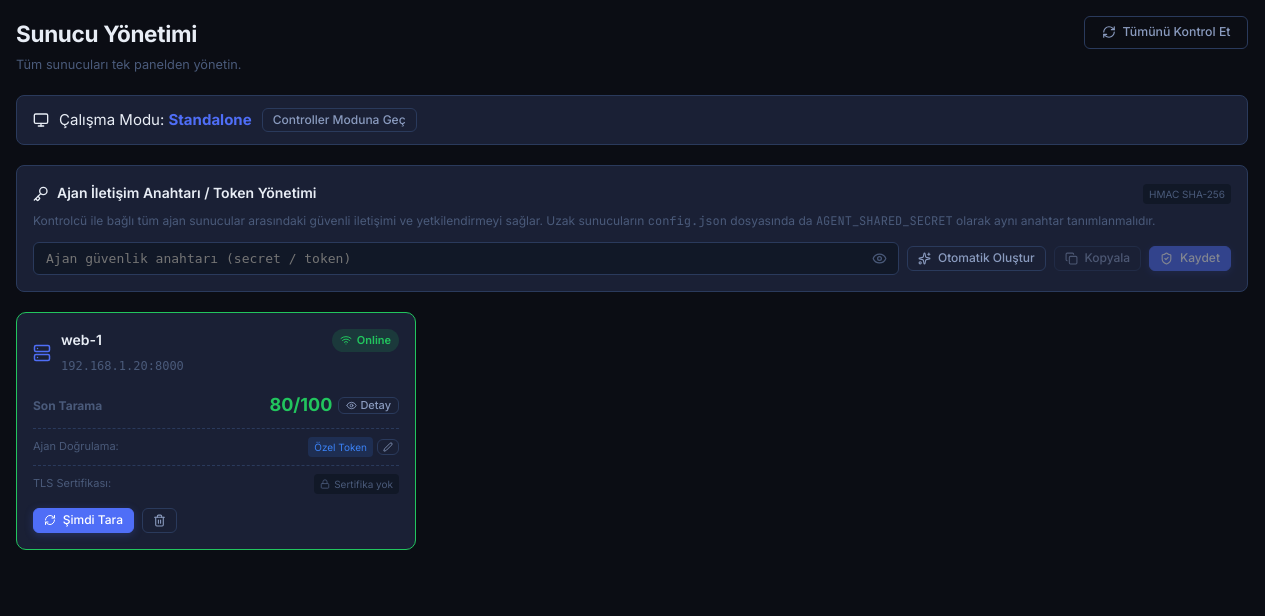
Test: ServerManagement sunucu token'ı düzenleme › Token'ı kaldır seçilince clear_token gönderilir
The width and height of the screenshot is (1265, 616).
Click the button titled "Sunucu token'ını düzenle" at [388, 447], box [377,439,399,455]
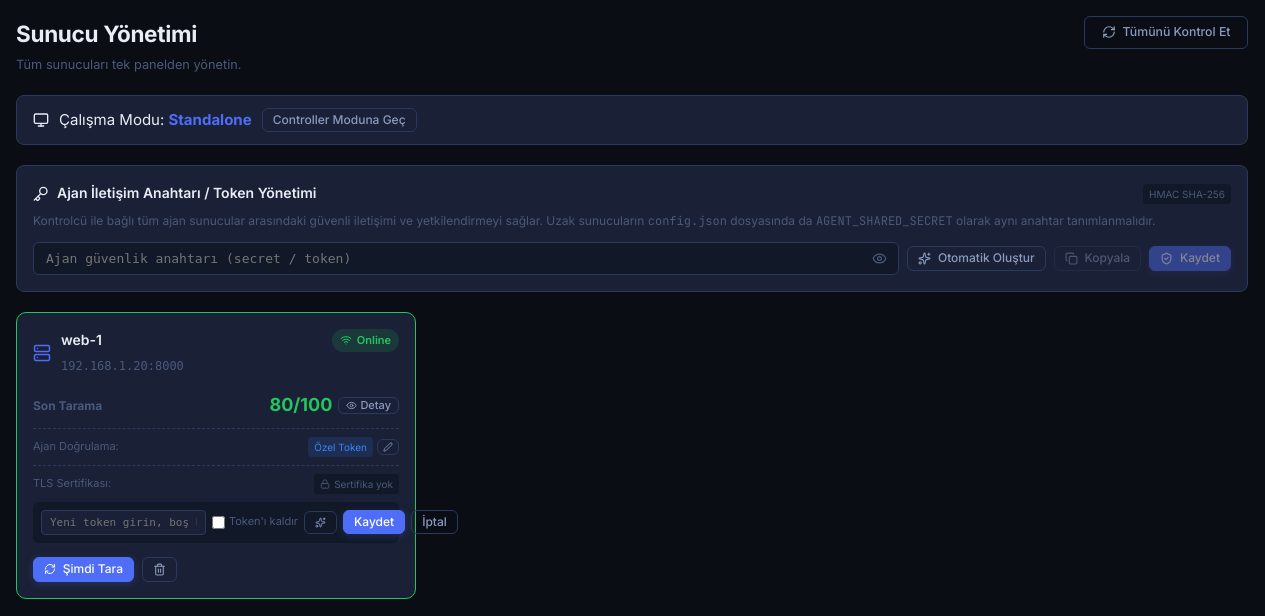
Click the checkbox labelled "Token'ı kaldır" at [218, 522], box [212,516,225,529]
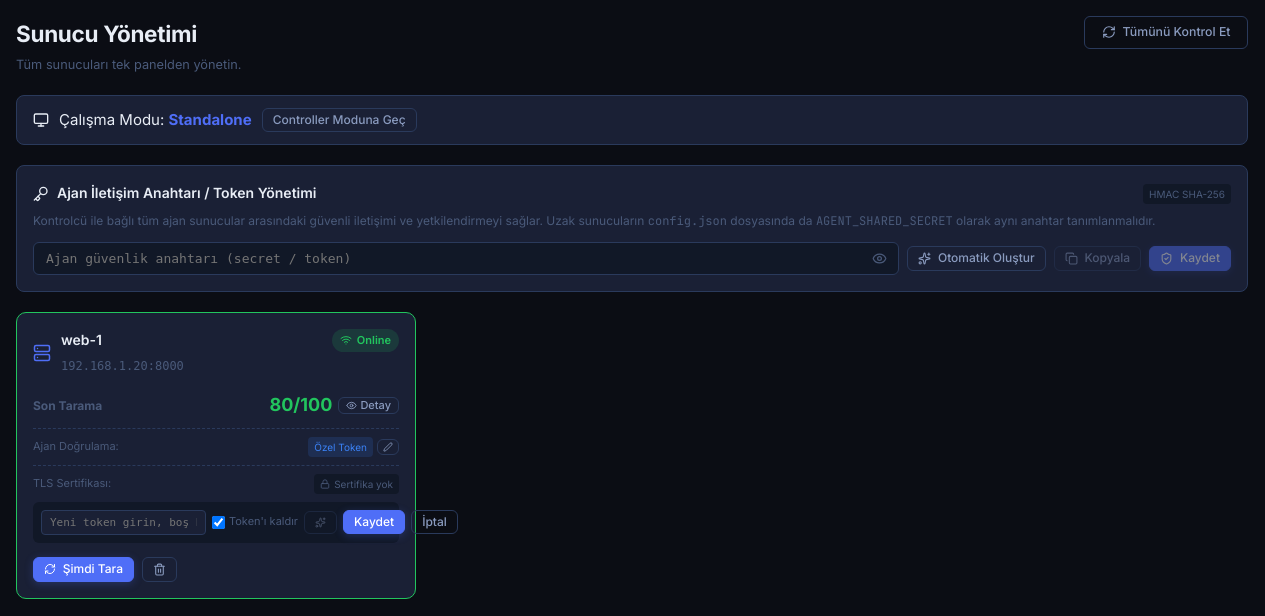
Expected: the field with placeholder "boş bırakılırsa değişmez" is disabled, [41,510,206,535]
Click the button titled "Token'ı kaydet" next to "Token'ı kaldır" at [374, 522], box [343,510,405,534]
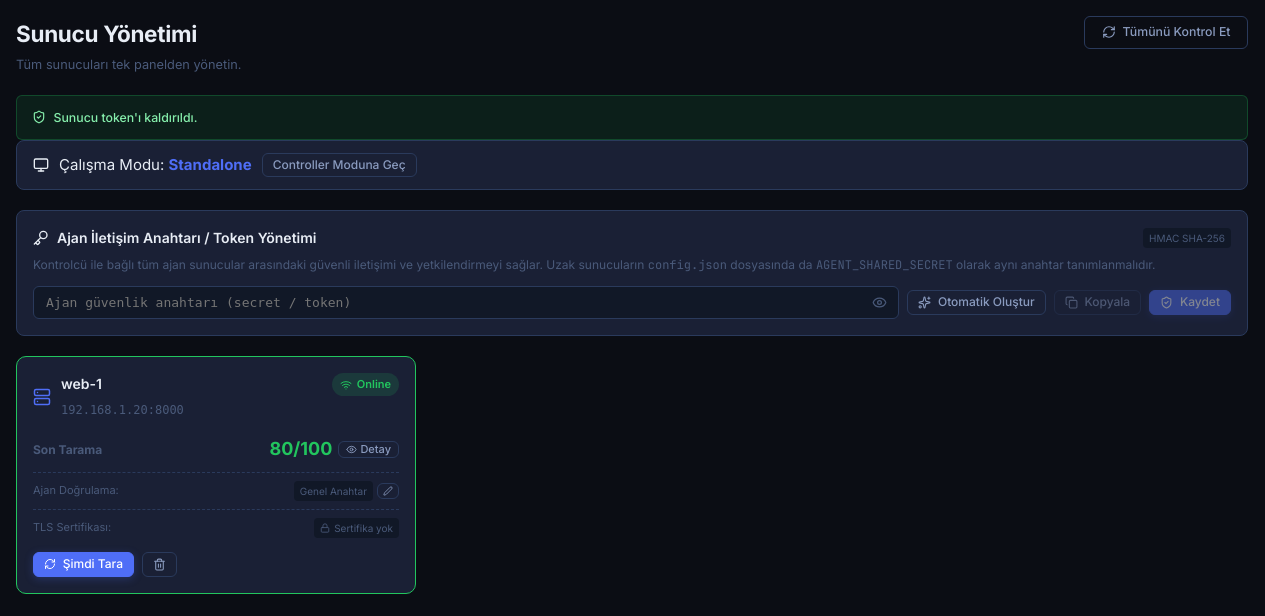
Expected: the text "Genel Anahtar" is shown, [294,481,373,501]
